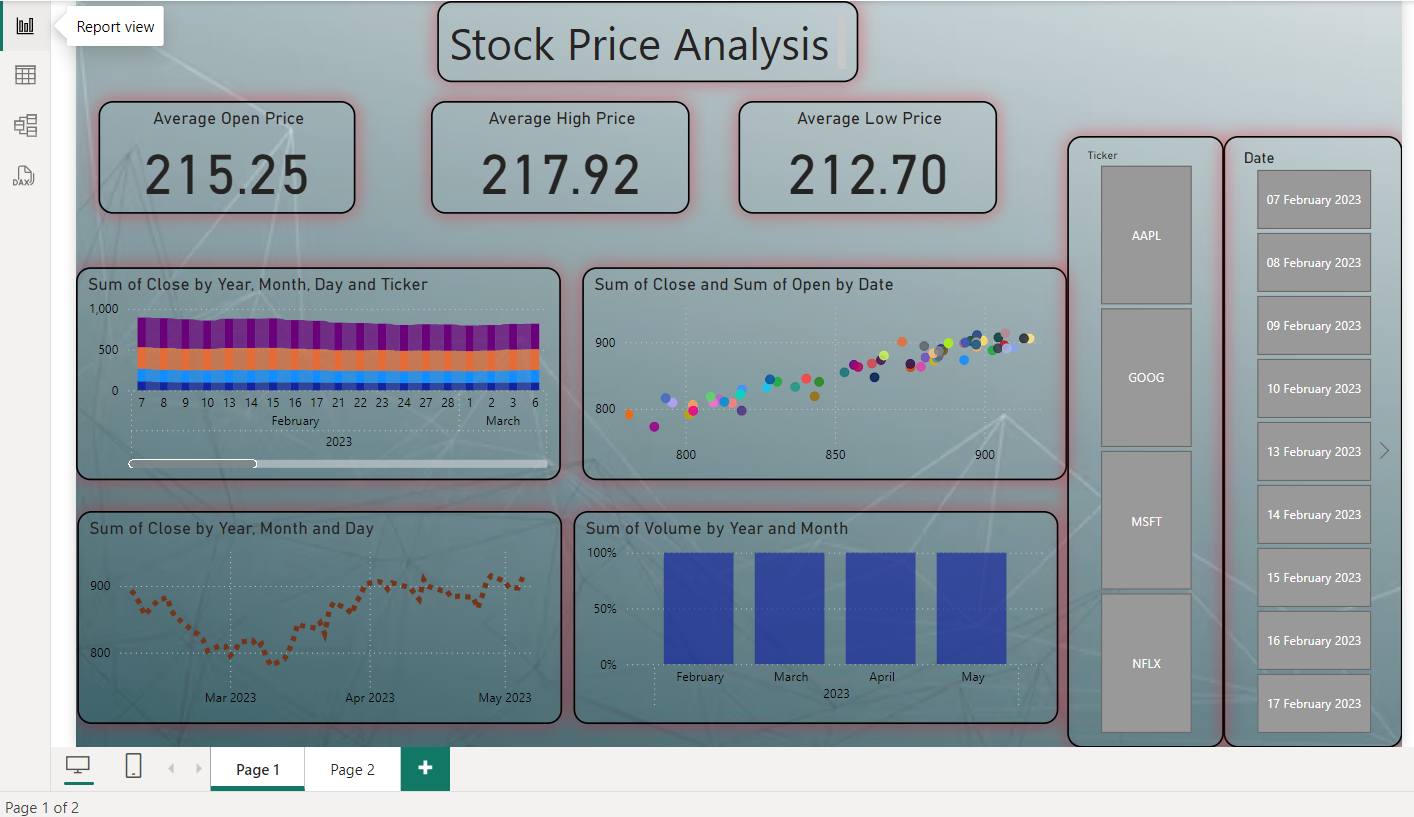

This screenshot's page, from the dashboard's own definition file:
{"tool":"powerbi","page":{"name":"Page 1","canvas":[1280,720],"ordinal":0},"visuals":[{"type":"lineChart","fields":{"Y":["Sum(stocks.Close)"],"Category":["stocks.Date.Variation.Date Hierarchy.Year","stocks.Date.Variation.Date Hierarchy.Month","stocks.Date.Variation.Date Hierarchy.Day"]},"box":[1.4,492.6,467.9,205.8],"z":0},{"type":"ribbonChart","fields":{"Y":["Sum(stocks.Close)"],"Series":["stocks.Ticker"],"Category":["stocks.Date.Variation.Date Hierarchy.Year","stocks.Date.Variation.Date Hierarchy.Month","stocks.Date.Variation.Date Hierarchy.Day"]},"box":[0,256.6,467.9,205.8],"z":1000},{"type":"hundredPercentStackedColumnChart","fields":{"Y":["Sum(stocks.Volume)"],"Category":["stocks.Date.Variation.Date Hierarchy.Year","stocks.Date.Variation.Date Hierarchy.Month"]},"box":[480.3,492.6,467.9,205.8],"z":2000},{"type":"scatterChart","fields":{"X":["Sum(stocks.Close)"],"Y":["Sum(stocks.Open)"],"Series":["stocks.Date"]},"box":[488.5,256.6,467.9,205.8],"z":3000},{"type":"card","title":"Average Low Price","fields":{"Values":["Avg(stocks.Low)"]},"box":[639.5,96.1,249.7,108.4],"z":4000},{"type":"card","title":"Average High Price","fields":{"Values":["Avg(stocks.High)"]},"box":[343.1,96.1,249.7,108.4],"z":5000},{"type":"card","title":"Average Open Price","fields":{"Values":["Avg(stocks.Open)"]},"box":[22,96.1,248.4,108.4],"z":6000},{"type":"slicer","fields":{"Values":["stocks.Date"]},"box":[1107.4,130.4,172.9,590.1],"z":7000},{"type":"slicer","fields":{"Values":["stocks.Ticker"]},"box":[956.4,130.4,150.9,590.1],"z":8000},{"type":"textbox","box":[348.7,0,406.6,78.4],"z":8001}]}

Visuals, with their boxes in screenshot pixels (x1, y1, x2, y2):
lineChart - Sum(stocks.Close) x stocks.Date.Variation.Date Hierarchy.Year: rect(57, 510, 548, 727)
ribbonChart - Sum(stocks.Close) x stocks.Ticker: rect(55, 262, 547, 479)
hundredPercentStackedColumnChart - Sum(stocks.Volume) x stocks.Date.Variation.Date Hierarchy.Year: rect(560, 510, 1052, 727)
scatterChart - Sum(stocks.Close) x Sum(stocks.Open): rect(569, 262, 1060, 479)
"Average Low Price" card: rect(727, 94, 990, 208)
"Average High Price" card: rect(416, 94, 678, 208)
"Average Open Price" card: rect(78, 94, 339, 208)
slicer - stocks.Date: rect(1219, 130, 1401, 750)
slicer - stocks.Ticker: rect(1060, 130, 1219, 750)
textbox: rect(422, 0, 849, 75)
